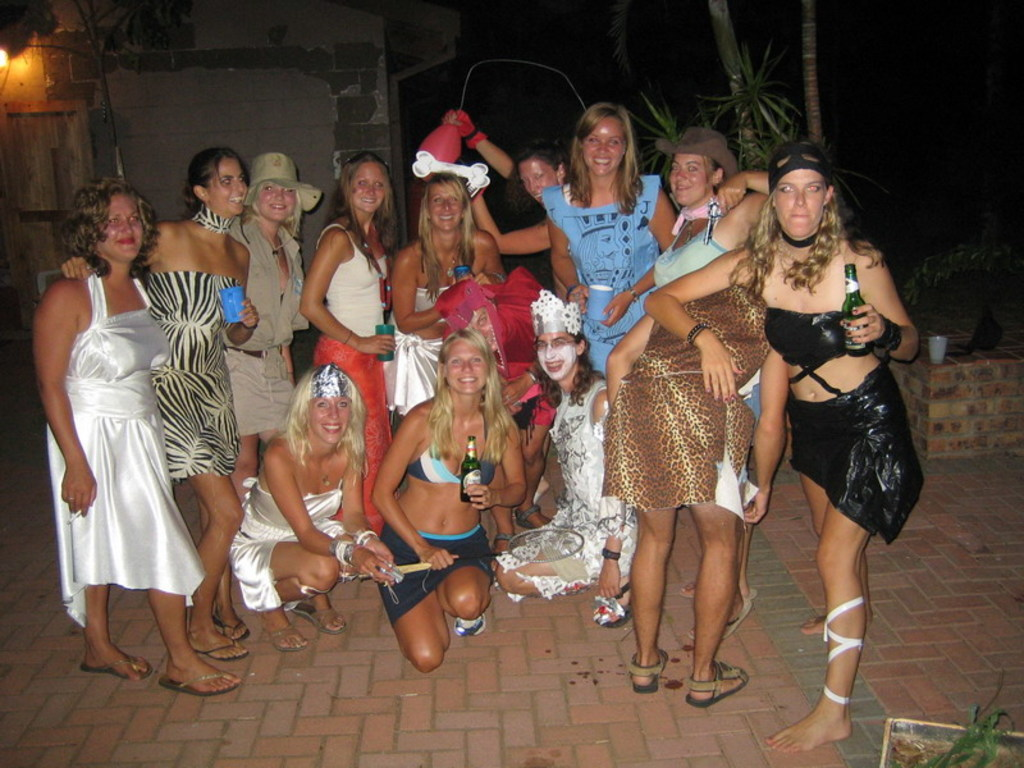person: (535, 102, 680, 376)
